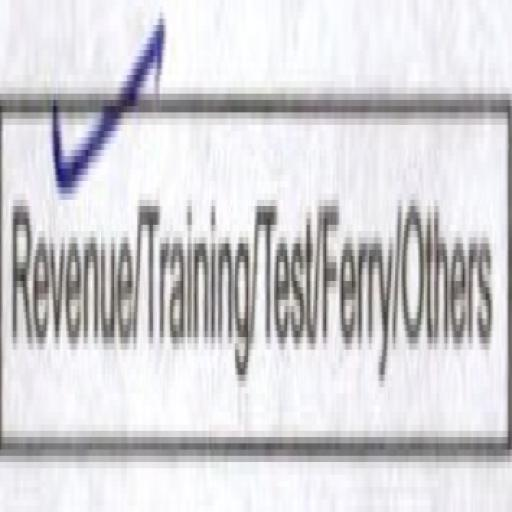check: (0, 0, 138, 495)
